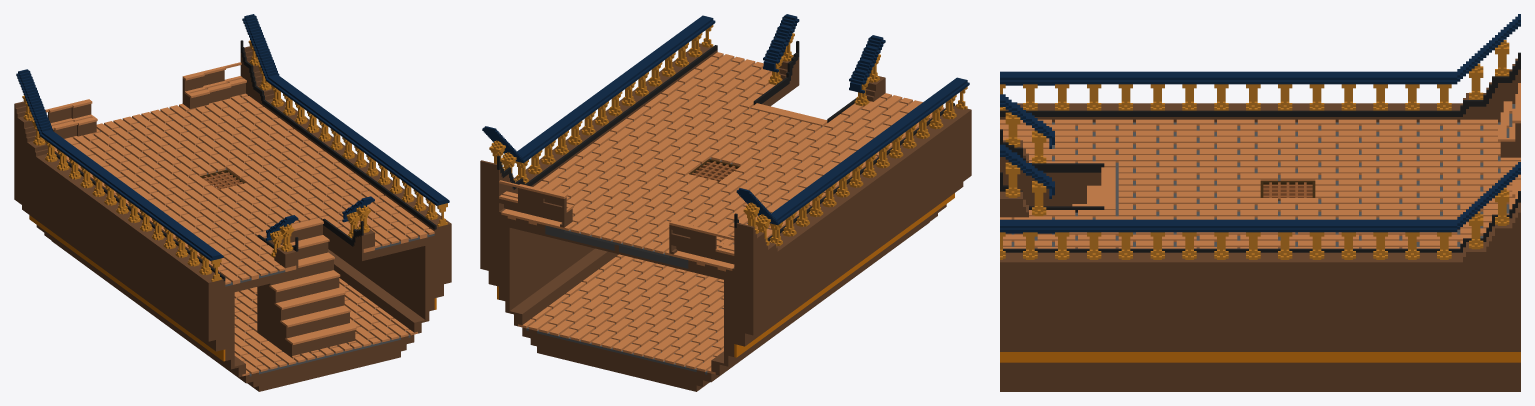
File: ship-9.obj
3 renders of one model, left to right at view 1: azimuth 30°, elevation 25°; view 2: azimuth 150°, elevation 25°; view 3: azimuth 270°, elevation 25°, orthographic. The views are drawn at different scales.
Size of the model in its own units: 13 by 9.7 by 18.
Materials: 1 (1 with a texture image).
